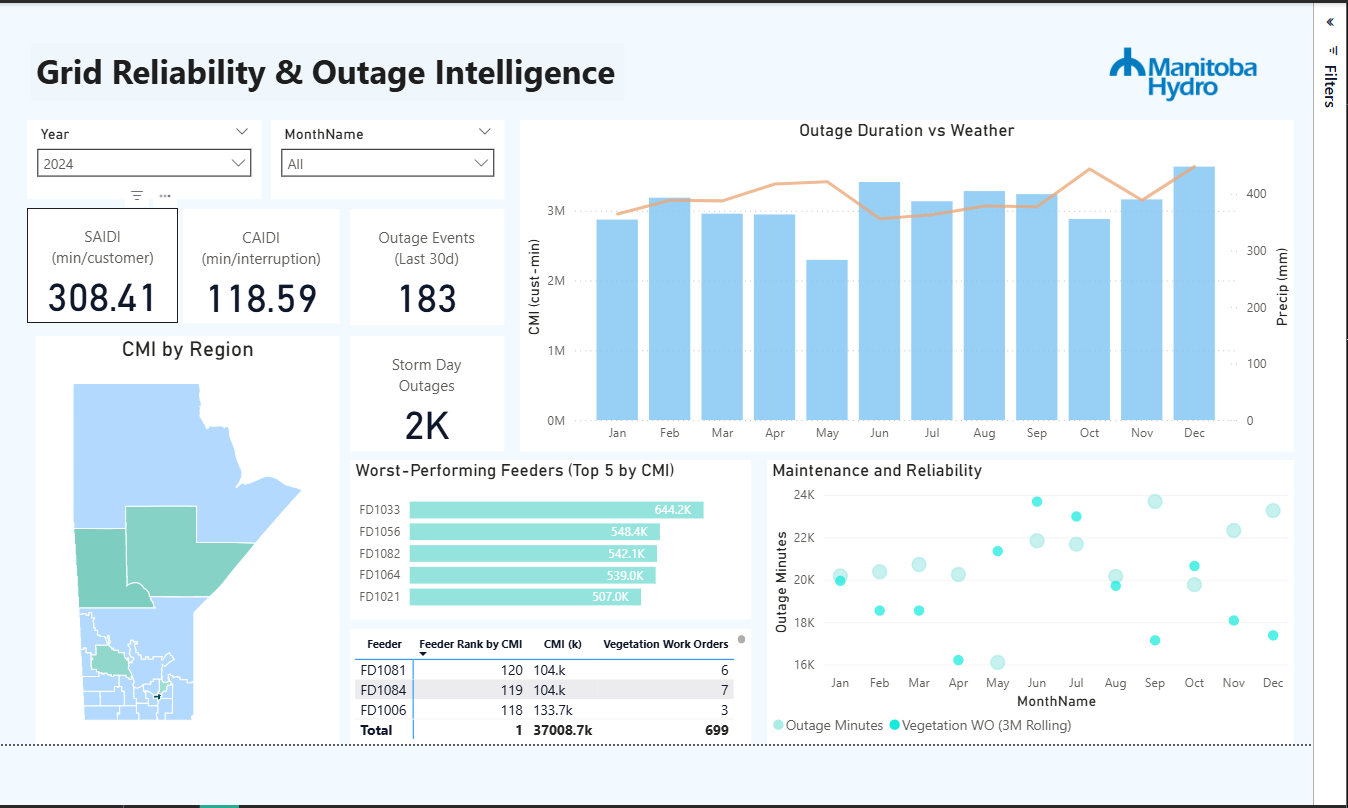

What the dashboard file says about the page in this screenshot:
{"tool":"powerbi","page":{"name":"Page 1","canvas":[1280,720],"ordinal":0},"visuals":[{"type":"slicer","fields":{"Values":["dim_Date.Year"]},"box":[29.7,113.5,228,77.1],"z":0},{"type":"slicer","fields":{"Values":["dim_Date.MonthName"]},"box":[267.7,113.5,226.9,77.1],"z":1000},{"type":"cardVisual","fields":{"Data":["fact_Outages.SAIDI (min/customer)"]},"box":[29.7,199.4,147.6,111.3],"z":2000},{"type":"cardVisual","fields":{"Data":["fact_Outages.CAIDI (min/interruption)"]},"box":[181.8,200.5,152,111.3],"z":3000},{"type":"cardVisual","fields":{"Data":["fact_Outages.Outage Events (Last 30d)"]},"box":[344.1,200.2,149.7,112.7],"z":4000},{"type":"cardVisual","fields":{"Data":["fact_Outages.Storm Day Outages"]},"box":[344.1,323.6,149.7,111.8],"z":5000},{"type":"lineClusteredColumnComboChart","title":"Outage Duration vs Weather","fields":{"Category":["dim_Date.MonthName"],"Y":["fact_Outages.Total Customer Minutes Interrupted (CMI)"],"Y2":["fact_Outages.Total Precipitation (mm)"]},"box":[508.9,113.5,752.4,321.7],"z":6000},{"type":"shapeMap","title":"CMI by Region","fields":{"Value":["fact_Outages.Total Customer Minutes Interrupted (CMI)"],"Category":["RegionMap.ShapeKey"]},"box":[38.6,323.9,295.2,396.6],"z":7000},{"type":"barChart","title":"Worst-Performing Feeders (Top 5 by CMI)","fields":{"Category":["dim_Asset.Feeder"],"Y":["fact_Outages.CMI by Feeder"]},"box":[343.7,443.9,389.9,155.3],"z":8000},{"type":"pivotTable","fields":{"Values":["fact_Outages.Feeder Rank by CMI","fact_Outages.CMI (k)","fact_Outages.Vegetation Work Orders"],"Rows":["dim_Asset.Feeder"]},"box":[343.7,608.1,389.9,112.4],"z":9000},{"type":"lineChart","title":"Maintenance and Reliability","fields":{"Category":["dim_Date.MonthName"],"Y":["fact_Outages.Outage Minutes"],"Y2":["fact_Outages.Vegetation WO (3M Rolling)"]},"box":[749.1,443.9,512.2,276.5],"z":10000},{"type":"textbox","box":[34,39,577.2,56.2],"z":11000},{"type":"image","box":[1046.7,37.9,214.8,63.2],"z":12000}]}

Visuals, with their boxes on the page's 1280x720 design canvas (x1, y1, x2, y2). These are canvas units, not pixel positions in the 1348x808 screenshot, which may show the page scaled, cropped or inside an application window:
slicer - dim_Date.Year: <region>30, 114, 258, 191</region>
slicer - dim_Date.MonthName: <region>268, 114, 495, 191</region>
cardVisual - fact_Outages.SAIDI (min/customer): <region>30, 199, 177, 311</region>
cardVisual - fact_Outages.CAIDI (min/interruption): <region>182, 200, 334, 312</region>
cardVisual - fact_Outages.Outage Events (Last 30d): <region>344, 200, 494, 313</region>
cardVisual - fact_Outages.Storm Day Outages: <region>344, 324, 494, 435</region>
"Outage Duration vs Weather" lineClusteredColumnComboChart: <region>509, 114, 1261, 435</region>
"CMI by Region" shapeMap: <region>39, 324, 334, 720</region>
"Worst-Performing Feeders (Top 5 by CMI)" barChart: <region>344, 444, 734, 599</region>
pivotTable - fact_Outages.Feeder Rank by CMI x fact_Outages.CMI (k): <region>344, 608, 734, 720</region>
"Maintenance and Reliability" lineChart: <region>749, 444, 1261, 720</region>
textbox: <region>34, 39, 611, 95</region>
image: <region>1047, 38, 1262, 101</region>
